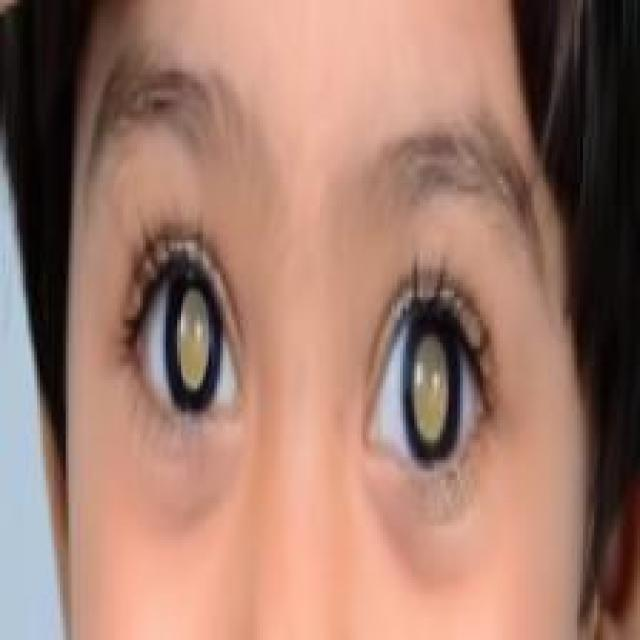reflexo-alterado: (102, 212, 267, 432), (376, 251, 511, 505)
